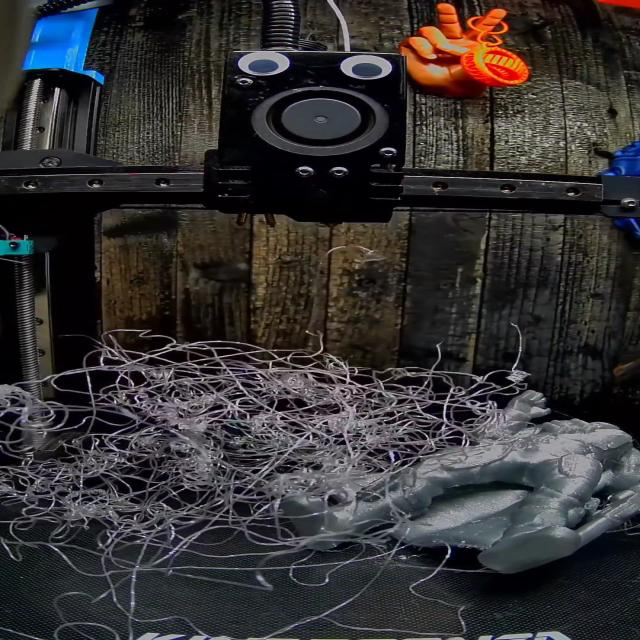spaghetti: (3, 327, 513, 550)
